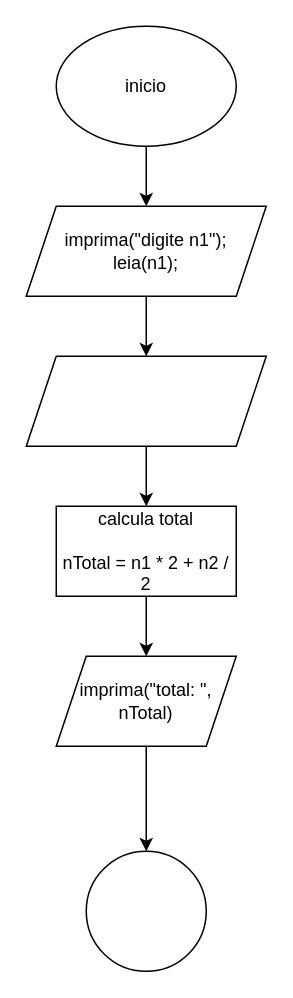
The diagram is 293 pixels wide and 998 high, and some of its shapes have lost their labels. Each missing label, with the centre of its shape:
fim: point (145, 910)
imprima("digite n2"); leia(n2);: point (145, 400)
